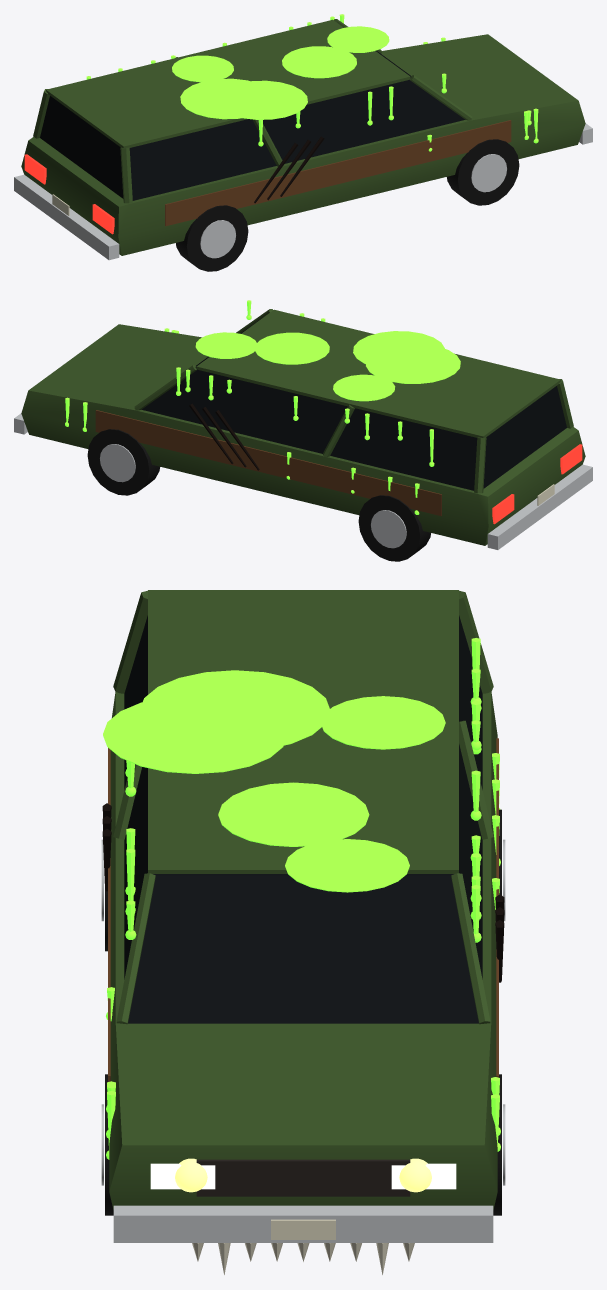
The model's file is SM_80s_Car_SwampWagon.glb.
3 views of the same model, one above another, from view 1: azimuth 30°, elevation 25°; view 2: azimuth 150°, elevation 25°; view 3: azimuth 270°, elevation 25° (orthographic). The views are drawn at different scales.
Visible parts, largest first — view 1: SM_80s_Car_SwampWagon; view 2: SM_80s_Car_SwampWagon; view 3: SM_80s_Car_SwampWagon.
Part boxes in pixels (x1,y1,x2,y2): SM_80s_Car_SwampWagon: (14,14,592,271); SM_80s_Car_SwampWagon: (14,300,592,561); SM_80s_Car_SwampWagon: (101,590,505,1274).
Bounding box in the file's own units: 5.2 × 1.41 × 1.87.
